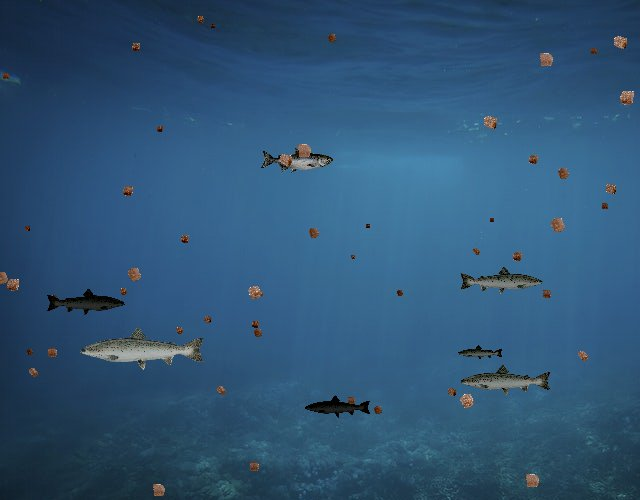Fish: (78, 325, 207, 371), (460, 363, 554, 397), (458, 265, 544, 296), (46, 288, 127, 317), (260, 147, 333, 173), (304, 394, 372, 418), (458, 345, 505, 362)
Pellet: (612, 82, 640, 112), (240, 279, 268, 307), (272, 147, 299, 174), (21, 223, 33, 235)
